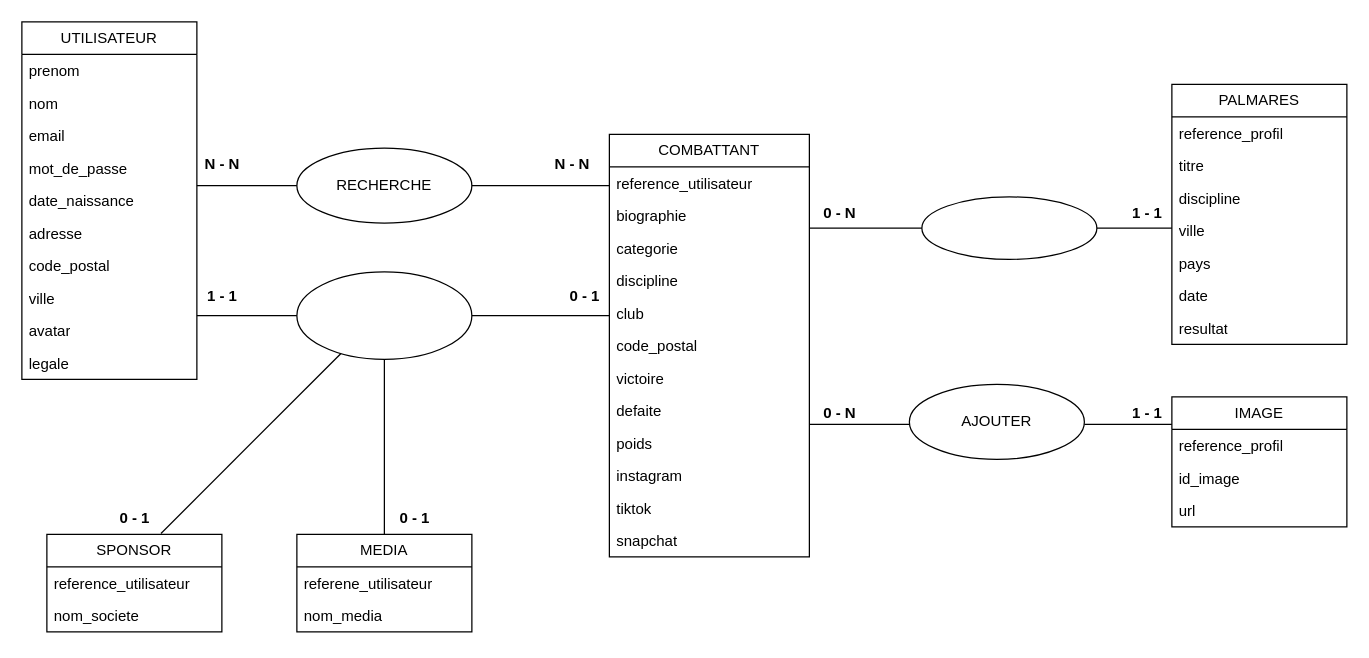
This 1369x658 diagram has some shape labels left out. The centre of each missing label's shape, as x and y in pixels:
CREER: (1009,227)
RENSEIGNER: (384,315)
